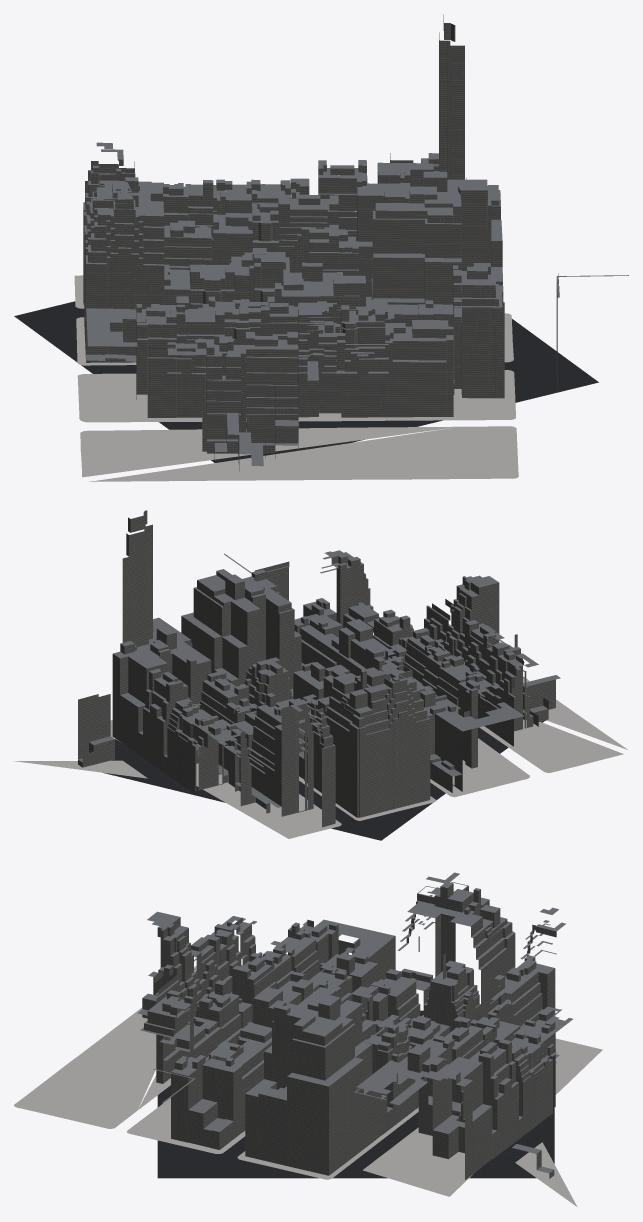
3 views of the same model, one above another, from view 1: azimuth 30°, elevation 25°; view 2: azimuth 150°, elevation 25°; view 3: azimuth 270°, elevation 25° (orthographic). The views are drawn at different scales.
Parts seen in each view (by area): view 1: t1_7, detail; view 2: t1_7, detail; view 3: t1_7, detail.
Part boxes in pixels (bbox=[...]): t1_7: bbox=[14, 14, 628, 470]; detail: bbox=[74, 275, 518, 481]; t1_7: bbox=[78, 510, 560, 840]; detail: bbox=[14, 624, 627, 838]; t1_7: bbox=[137, 872, 572, 1179]; detail: bbox=[14, 964, 602, 1206].
Size of the model in its own units: 370 by 169 by 387.
Materials: 4 (2 with a texture image).
